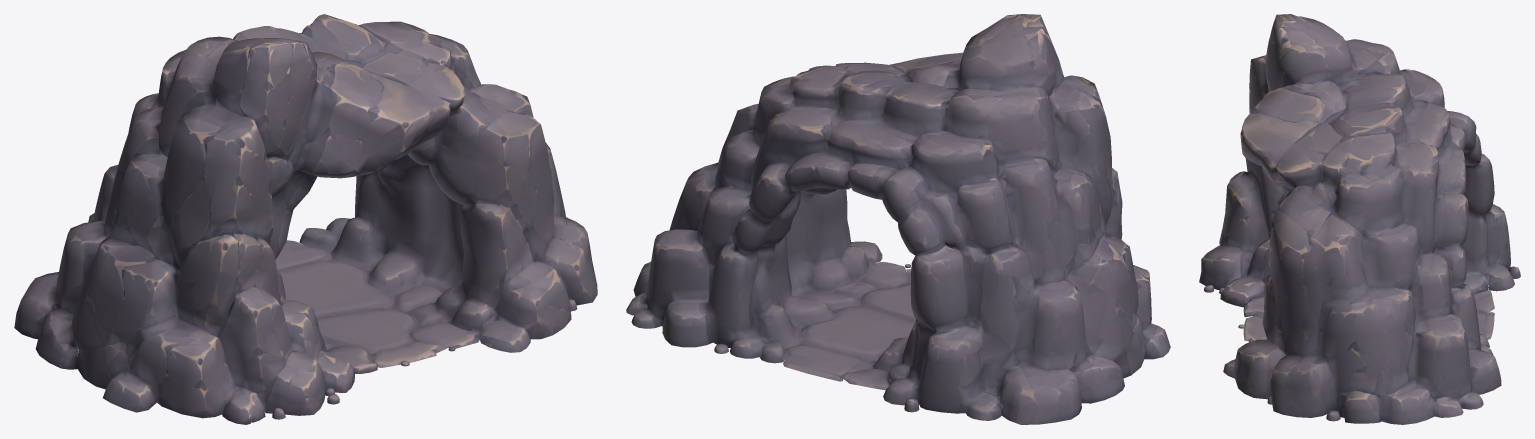
The model's file is rock_arch.glb.
3 views of the same model, side by side, from view 1: azimuth 30°, elevation 25°; view 2: azimuth 150°, elevation 25°; view 3: azimuth 270°, elevation 25° (orthographic). The views are drawn at different scales.
Visible parts, largest first — view 1: tripo_1e3873d2_690a_4ac8_bb59_9dc6bbb70895; view 2: tripo_1e3873d2_690a_4ac8_bb59_9dc6bbb70895; view 3: tripo_1e3873d2_690a_4ac8_bb59_9dc6bbb70895.
Part boxes in pixels (<box>): tripo_1e3873d2_690a_4ac8_bb59_9dc6bbb70895: <box>14,14,597,424</box>; tripo_1e3873d2_690a_4ac8_bb59_9dc6bbb70895: <box>626,14,1170,424</box>; tripo_1e3873d2_690a_4ac8_bb59_9dc6bbb70895: <box>1199,14,1520,424</box>.
Size of the model in its own units: 0.9995 by 0.6118 by 0.6577.
Materials: 1 (1 with a texture image).
